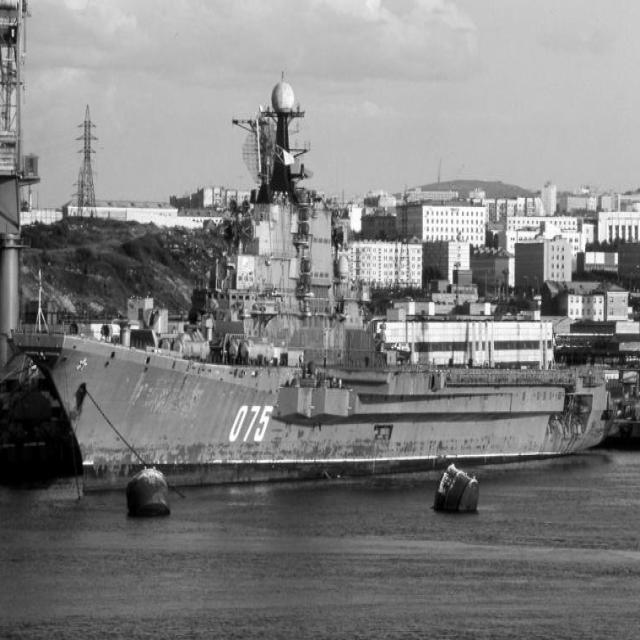Portanaves: (14, 68, 628, 512)
